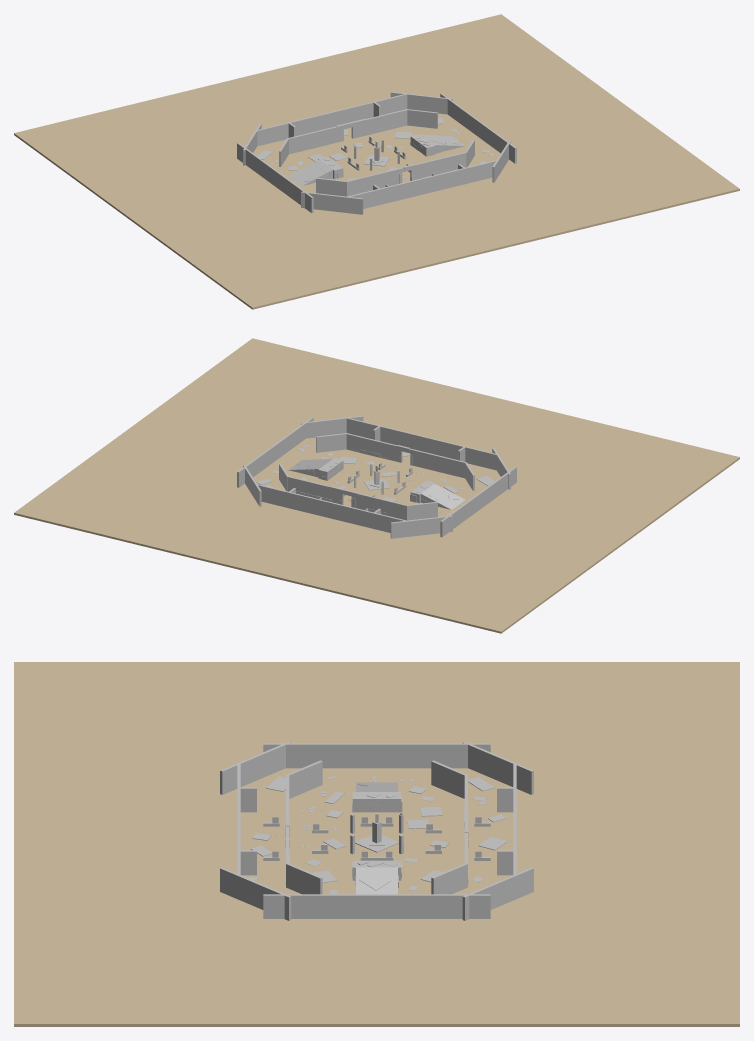
Rendered from main_scene.gltf.
The picture shows the model from 3 angles, top to bottom: view 1: azimuth 30°, elevation 25°; view 2: azimuth 150°, elevation 25°; view 3: azimuth 270°, elevation 25°; orthographic projection. The views are drawn at different scales.
Parts seen in each view (by area): view 1: Floor, OuterWall.005, OuterWall, OuterWall.006, OuterWall.007, OuterWall.003, Wall, Wall.007, Wall.001, Wall.006, OuterWall.002, Ramp.002 (+2 smaller); view 2: Floor, OuterWall, OuterWall.005, OuterWall.006, OuterWall.007, OuterWall.001, Wall, Wall.001, Wall.007, Wall.006, OuterWall.004, Ramp.002 (+2 smaller); view 3: Floor, OuterWall.007, OuterWall.006, OuterWall.001, OuterWall.003, OuterWall.002, OuterWall.004, Wall.003, Wall.005, Wall.002, Wall.004, Ramp.001 (+1 smaller).
Boxes of the visible parts, x1,y1,x2,y2 form: Floor: (14, 14, 739, 309); OuterWall.005: (347, 160, 496, 208); OuterWall: (256, 93, 407, 146); OuterWall.006: (237, 143, 313, 213); OuterWall.007: (440, 93, 516, 163); OuterWall.003: (301, 191, 363, 214); Wall: (347, 168, 402, 196); Wall.007: (288, 126, 343, 154); Wall.001: (410, 152, 466, 179); Wall.006: (351, 109, 407, 138); OuterWall.002: (390, 91, 452, 114); Ramp.002: (288, 159, 332, 185); Floor: (14, 338, 739, 633); OuterWall: (257, 484, 406, 532); OuterWall.005: (346, 417, 497, 470); OuterWall.006: (440, 467, 516, 537); OuterWall.007: (237, 417, 313, 487); OuterWall.001: (390, 515, 452, 538); Wall: (410, 449, 465, 478); Wall.001: (346, 433, 402, 461); Wall.007: (351, 493, 407, 520); Wall.006: (287, 476, 343, 504); OuterWall.004: (301, 415, 363, 438); Ramp.002: (421, 483, 465, 509); Floor: (14, 662, 739, 1026); OuterWall.007: (263, 894, 490, 918); OuterWall.006: (263, 743, 490, 768); OuterWall.001: (462, 741, 533, 794); OuterWall.003: (220, 741, 291, 794); OuterWall.002: (462, 867, 533, 920); OuterWall.004: (220, 867, 291, 920); Wall.003: (286, 760, 322, 798); Wall.005: (431, 760, 467, 798); Wall.002: (286, 863, 322, 894); Wall.004: (431, 863, 467, 894); Ramp.001: (356, 867, 397, 894).
Size of the model in its own units: 528 by 40 by 447.
